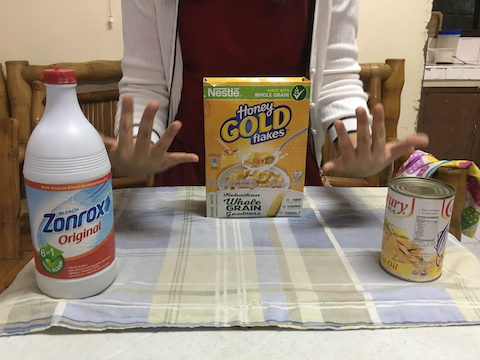bottle: (20, 64, 121, 298)
box: (196, 73, 317, 219)
can: (379, 174, 456, 281)
